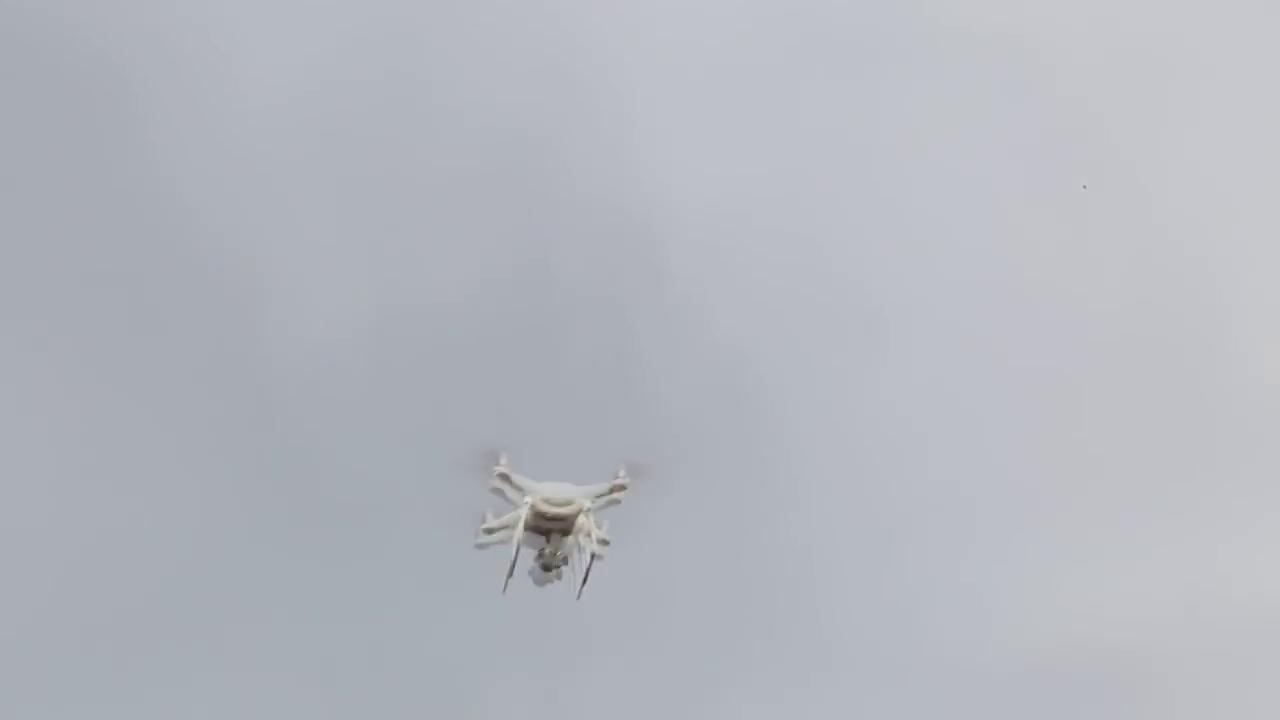drone: (456, 447, 650, 590)
